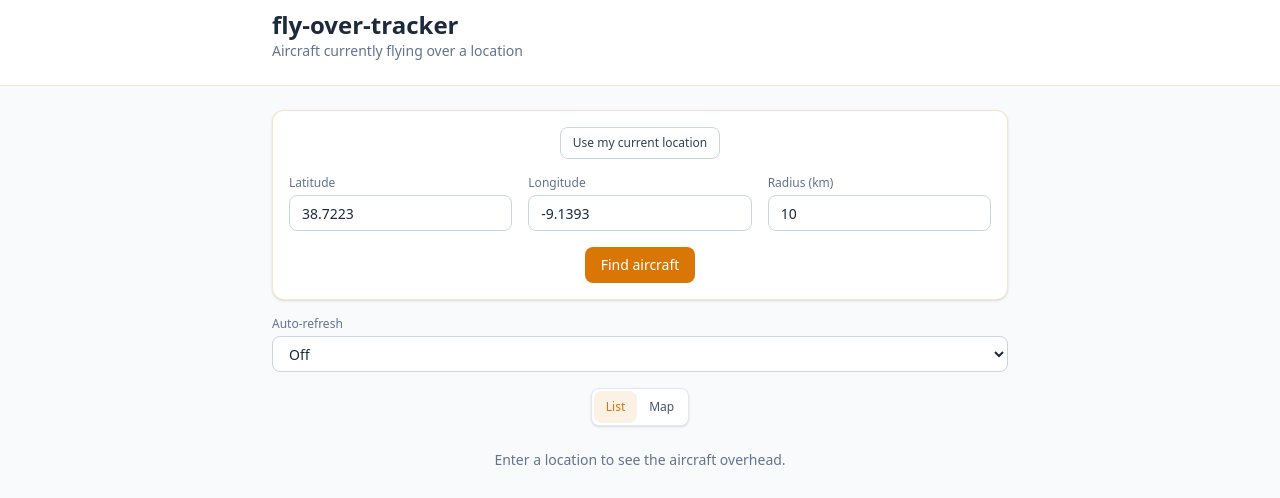
Test: App › shows an error message when the query fails
This screenshot has width=1280, height=498.
Replace the text in the field labelled "Latitude" with "48.8566": (401, 213) [289,195,512,231]
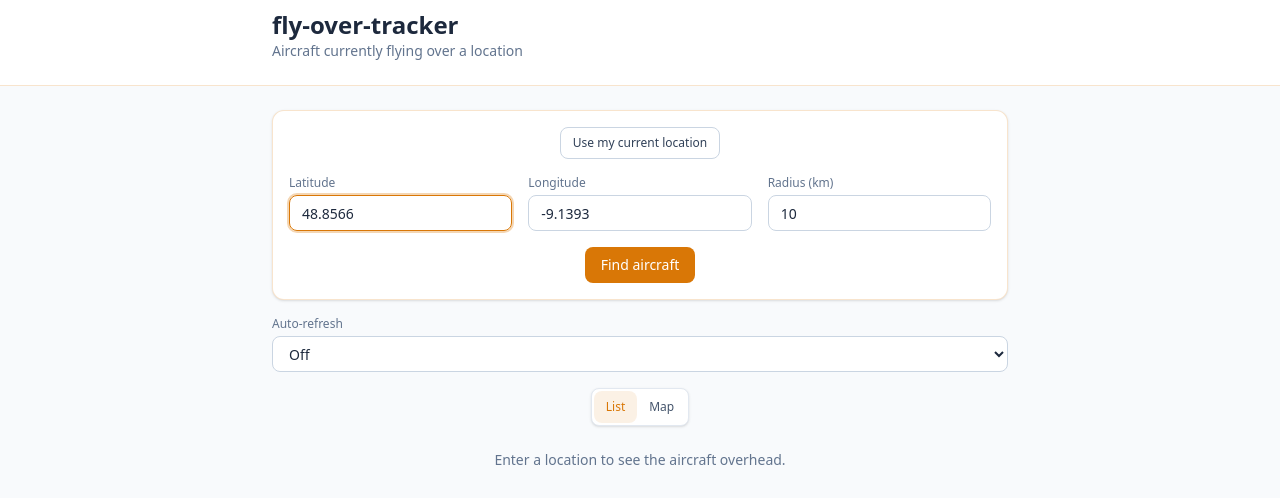
Replace the text in the field labelled "Longitude" with "2.3522": (640, 213) [528,195,752,231]
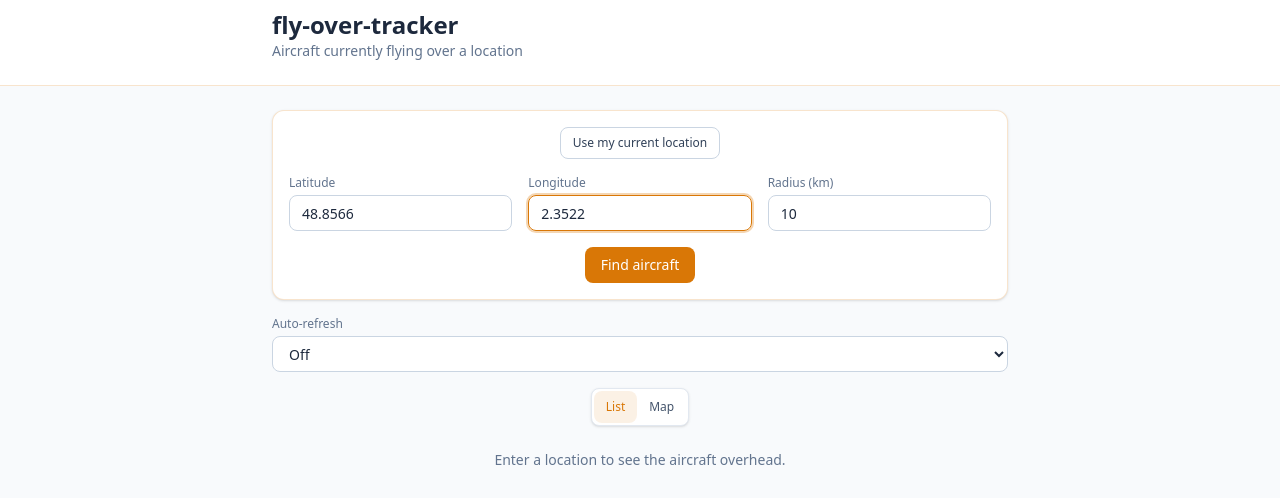
Replace the text in the field labelled "Radius (km)" with "50": (879, 213) [768,195,991,231]
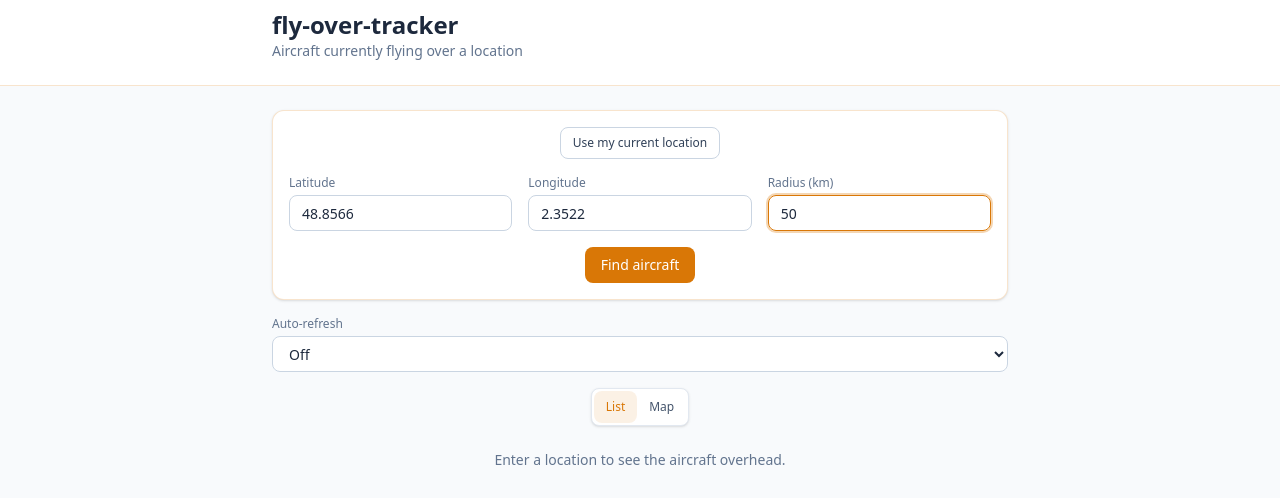
Click the button "Find aircraft": (640, 265) [585,247,695,283]
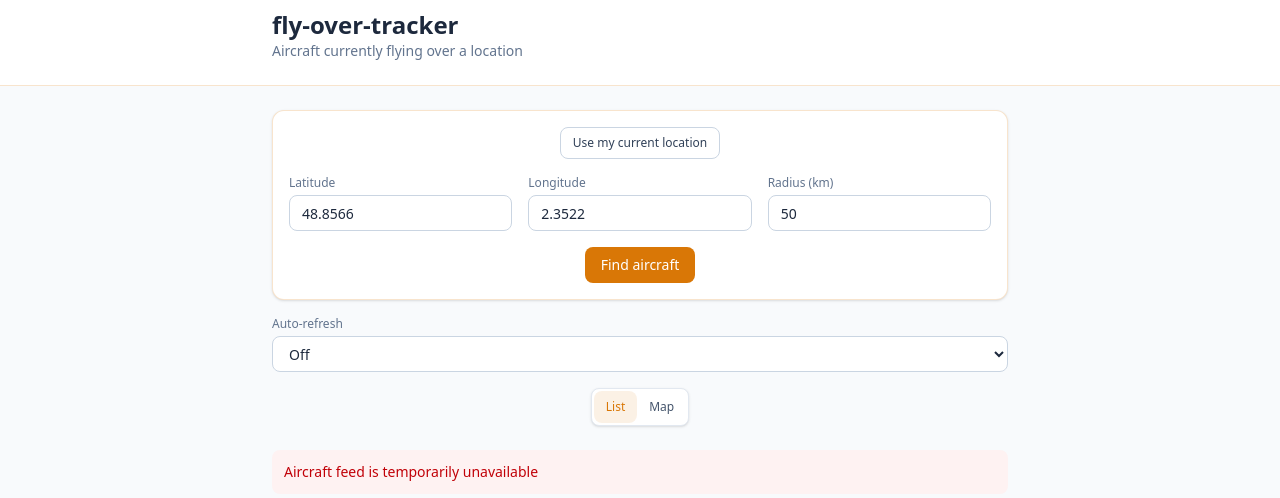
Result: the message shows "temporarily unavailable" at [284,462,538,481]
